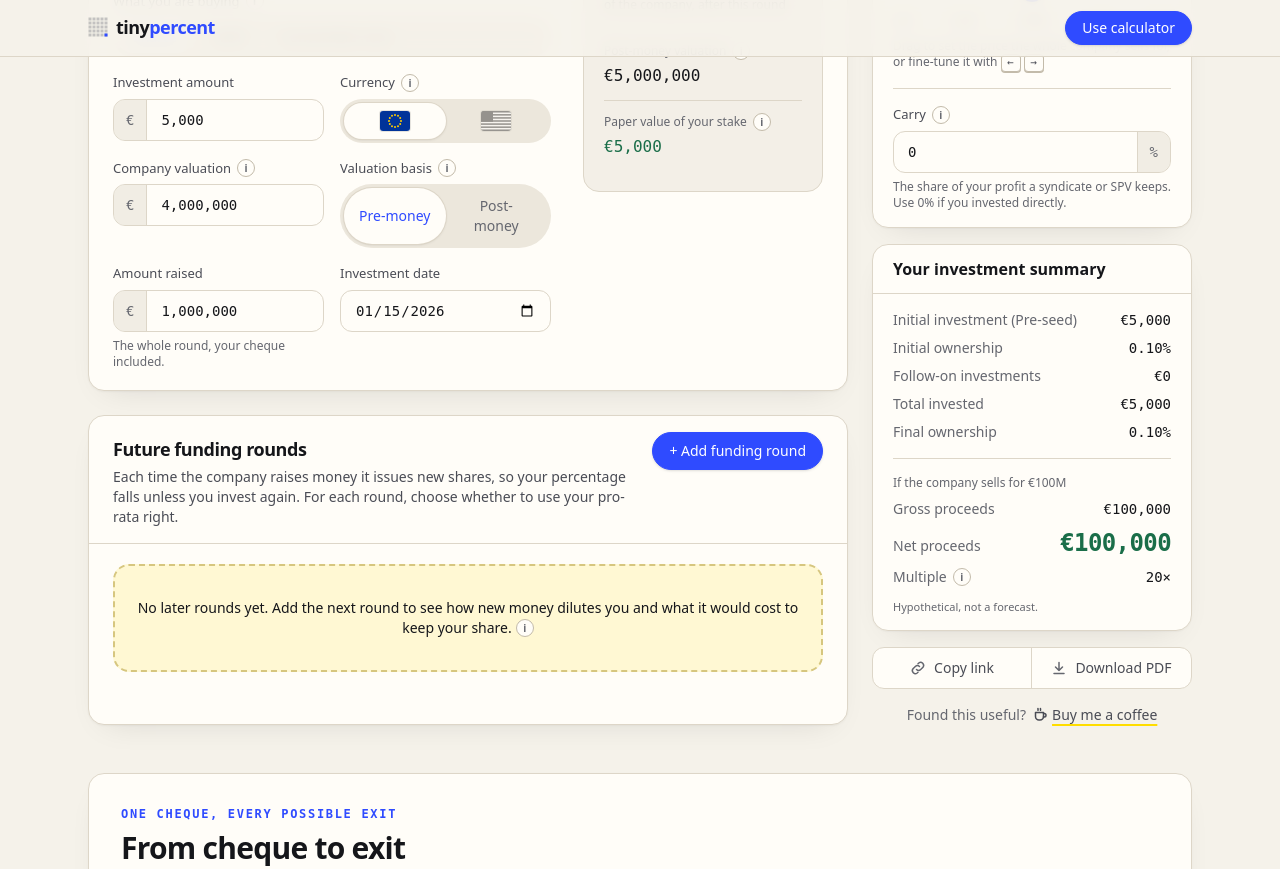
Scenario: future rounds and the follow-on choice › adds a round and lets it take a custom name
(page scrolled)
Click the button "+ Add funding round" at (738, 450), box [652,432,823,470]
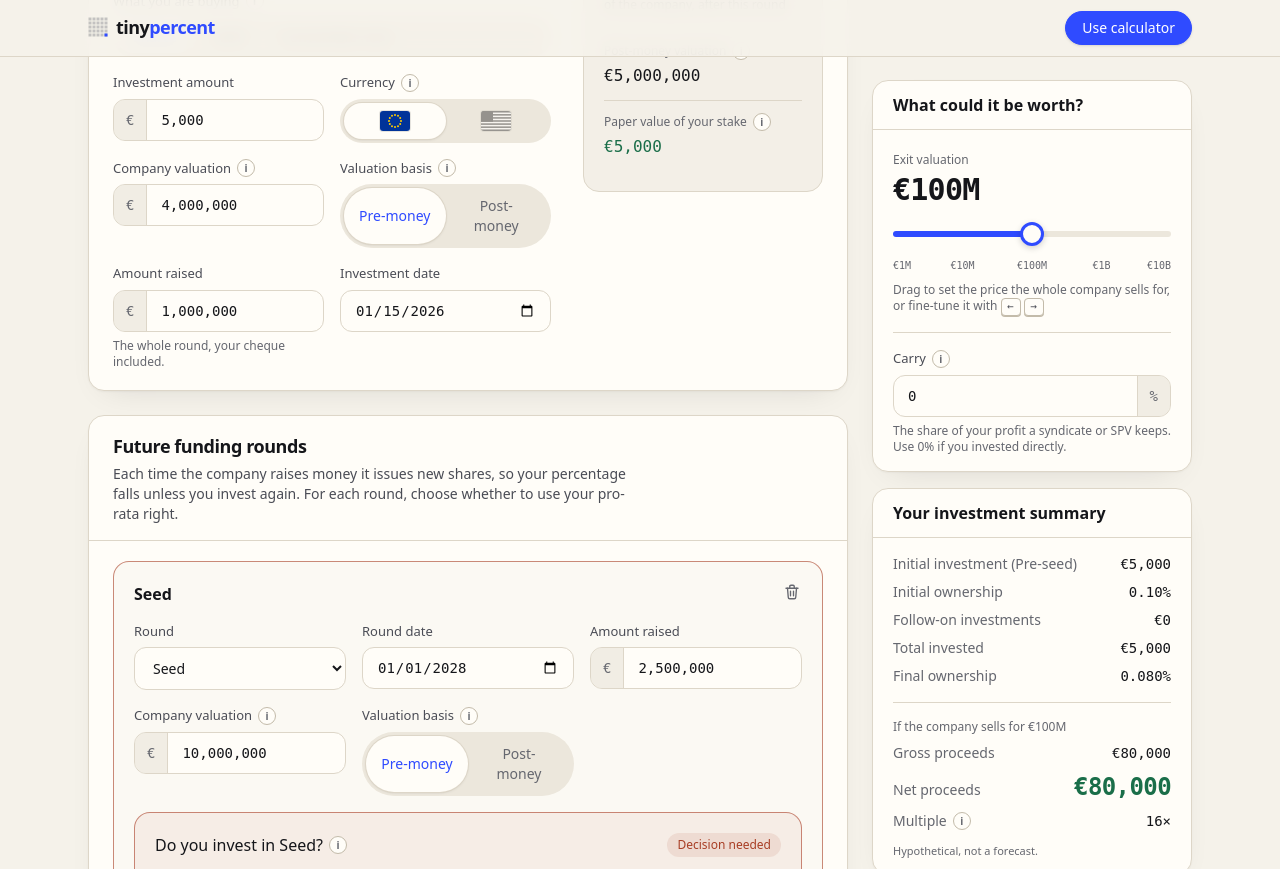
# After a Pre-seed cheque, the next round suggested is the Seed.
Select "Other…" in the dropdown labelled "Round" at (240, 668), box [134,647,346,690]
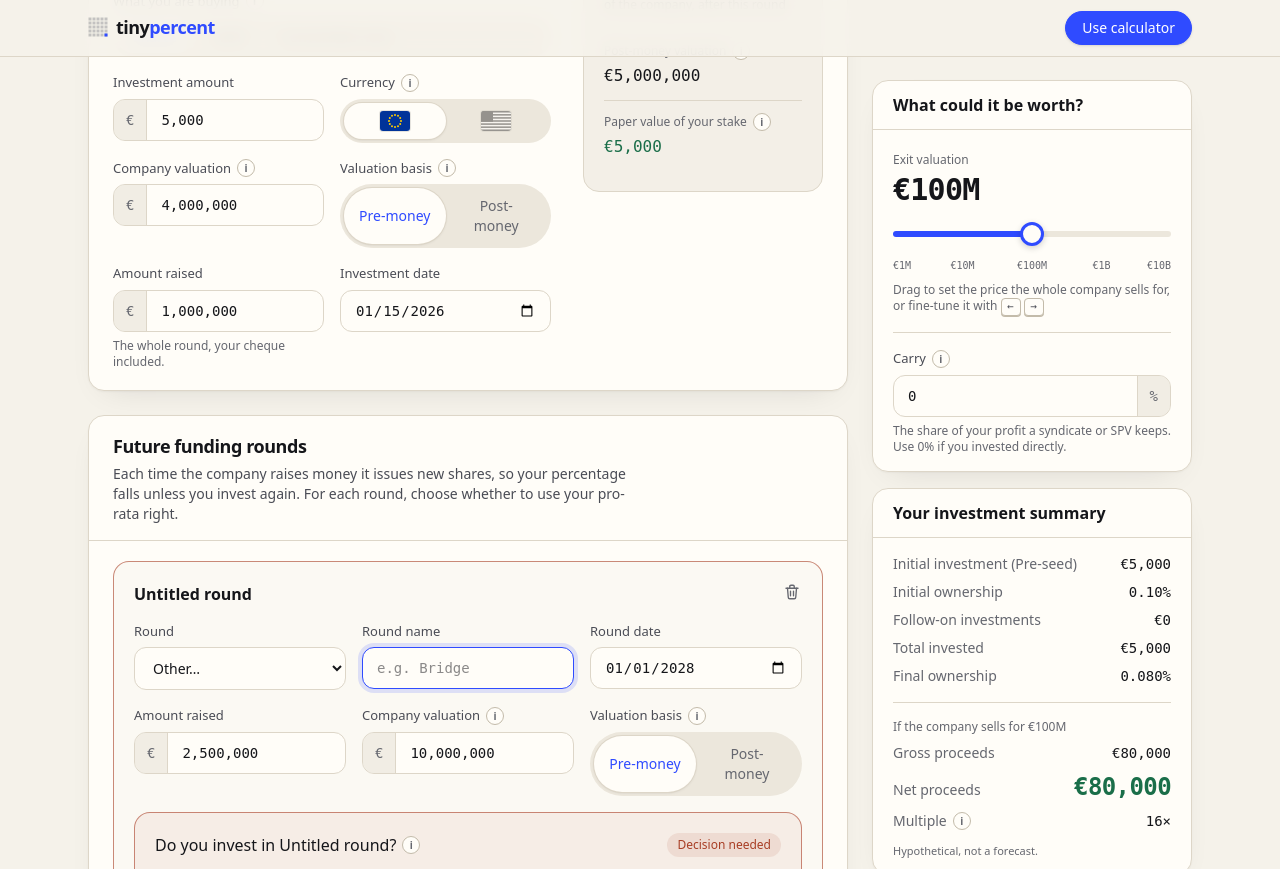
Expected: the field labelled "Round name" is empty
Type "Bridge" into the field labelled "Round name" at (468, 668), box [362,647,574,689]
(page scrolled)
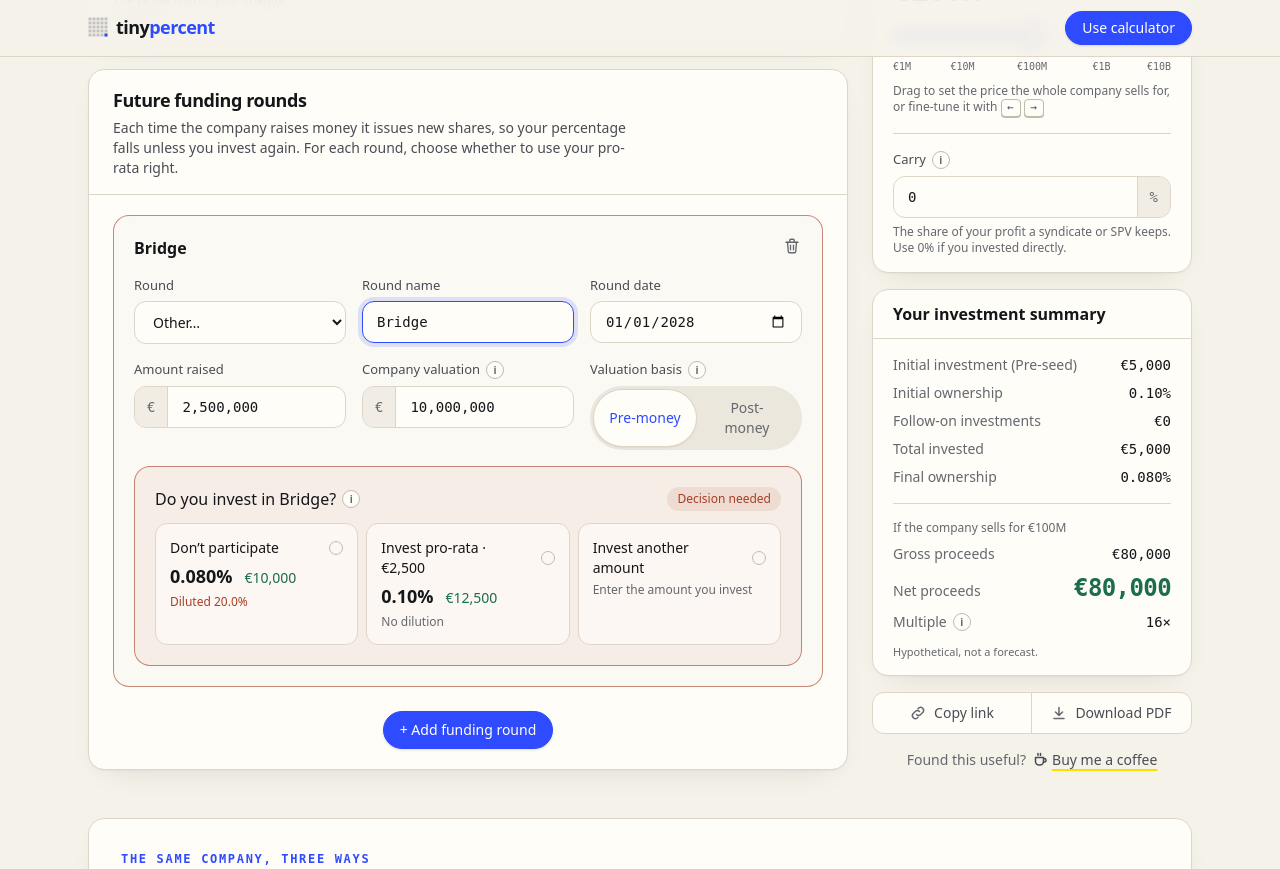
Expected: the element "Bridge" is shown, [113,214,823,686]
